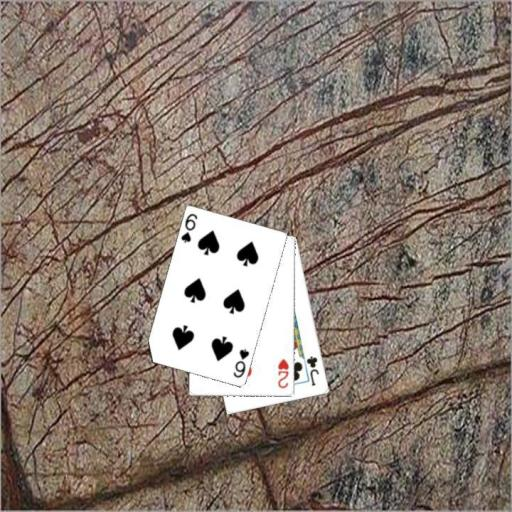2H: (275, 356, 290, 391)
6S: (230, 346, 251, 380), (178, 211, 199, 245)
JC: (304, 354, 321, 388)
